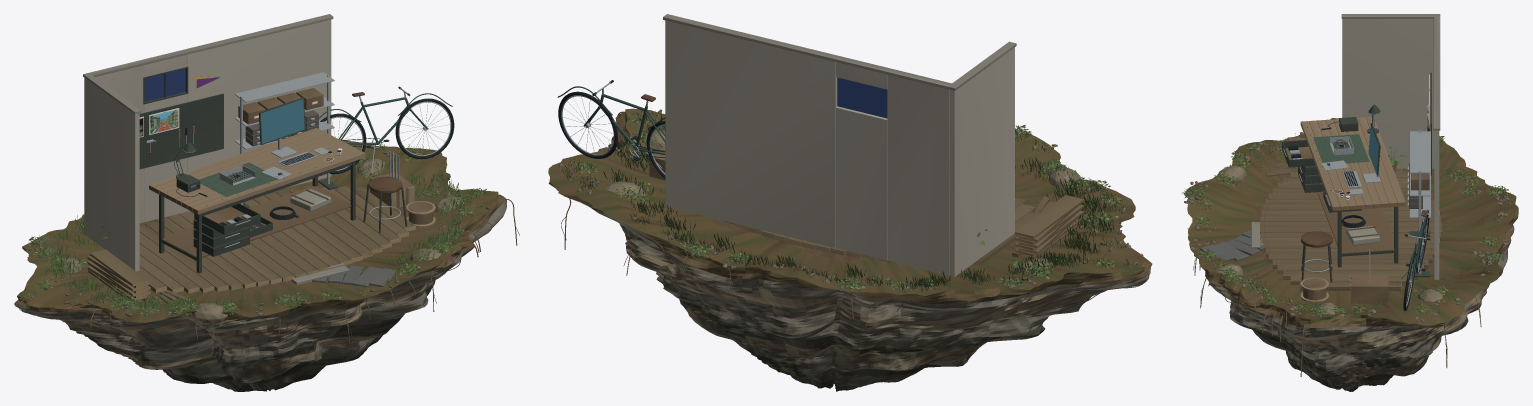
Rendered from orbit-projects-54cf0712.glb.
3 views of the same model, side by side, from view 1: azimuth 30°, elevation 25°; view 2: azimuth 150°, elevation 25°; view 3: azimuth 270°, elevation 25° (orthographic). The views are drawn at different scales.
Parts seen in each view (by area): view 1: Projects island · browser materials, Project print · Taipei Run; view 2: Projects island · browser materials; view 3: Projects island · browser materials.
Boxes of the visible parts, x1,y1,x2,y2 form: Projects island · browser materials: (14,14,519,391); Project print · Taipei Run: (150,109,178,133); Projects island · browser materials: (548,14,1152,391); Projects island · browser materials: (1182,14,1518,391).
Size of the model in its own units: 12.15 by 7.79 by 7.79.
Materials: 36 (2 with a texture image).
